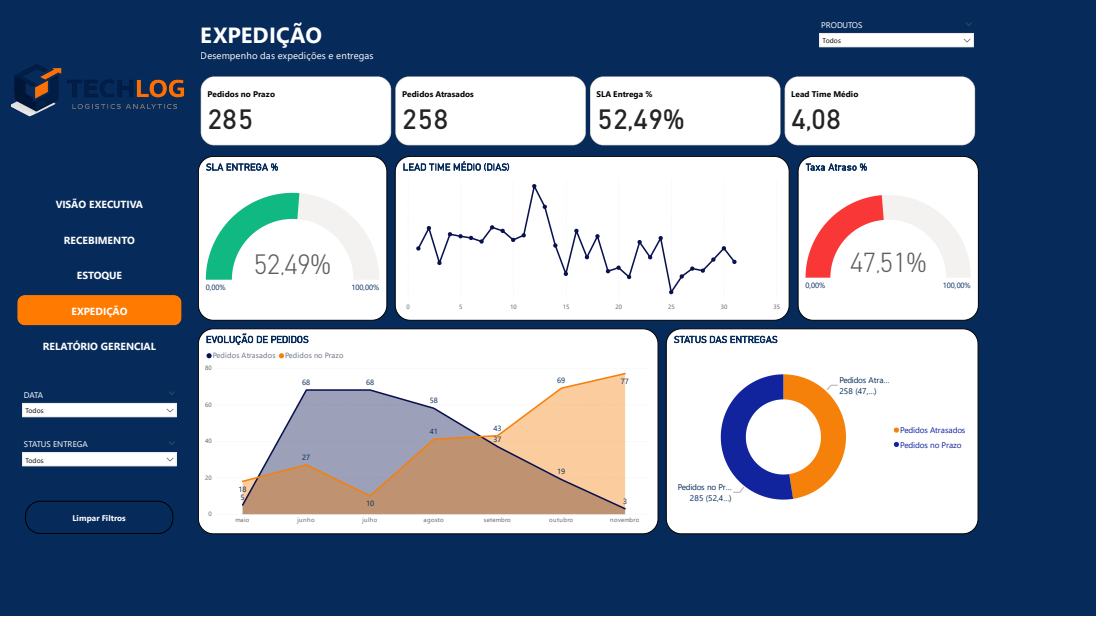

The page's visual inventory and layout, read from the dashboard file:
{"tool":"powerbi","page":{"name":"EXPEDIÇÃO","canvas":[1920,1080],"ordinal":3},"visuals":[{"type":"textbox","box":[384,32,720,96],"z":0},{"type":"cardVisual","fields":{"Data":["Medidas.Pedidos no Prazo","Medidas.Pedidos Atrasados","Medidas.SLA Entrega %","Medidas.Lead Time Médio"]},"box":[384,144,1520,144],"z":1000},{"type":"gauge","title":"SLA ENTREGA %","fields":{"Y":["Medidas.SLA Entrega %"]},"box":[384,304,368,320],"z":2000},{"type":"areaChart","title":"EVOLUÇÃO DE PEDIDOS","fields":{"Y":["Medidas.Pedidos Atrasados","Medidas.Pedidos no Prazo"],"Category":["expedicoes_tratado.data_saida.Variation.Hierarquia de datas.Ano","expedicoes_tratado.data_saida.Variation.Hierarquia de datas.Mês"]},"box":[384,640,896,400],"z":3000},{"type":"pageNavigator","box":[32,368,320,336],"z":4000},{"type":"image","box":[16,16,352,352],"z":5000},{"type":"slicer","fields":{"Values":["produtos_expedidos.nome_produto"]},"box":[1584,32,320,96],"z":6000},{"type":"donutChart","title":"STATUS DAS ENTREGAS","fields":{"Y":["Medidas.Pedidos Atrasados","Medidas.Pedidos no Prazo"]},"box":[1296,640,608,400],"z":7000},{"type":"lineChart","title":"LEAD TIME MÉDIO (DIAS)","fields":{"Y":["expedicoes_tratado.Lead Time Médio"],"Category":["expedicoes_tratado.data_saida.Variation.Hierarquia de datas.Dia"]},"box":[768,304,768,320],"z":8000},{"type":"gauge","fields":{"Y":["Medidas.Taxa Atraso %"]},"box":[1552,304,352,320],"z":9000},{"type":"actionButton","box":[48,976,288,64],"z":10000},{"type":"slicer","fields":{"Values":["expedicoes_tratado.data_entrega"]},"box":[32,752,320,96],"z":11000},{"type":"slicer","fields":{"Values":["expedicoes_tratado.status_entrega"]},"box":[32,848,320,96],"z":12000}]}

Visuals, with their boxes in screenshot pixels (x1, y1, x2, y2), scaled from the page's 1920x1080 canvas onto the 1098x619 screenshot:
textbox: box(220, 18, 631, 73)
cardVisual - Medidas.Pedidos no Prazo x Medidas.Pedidos Atrasados: box(220, 83, 1089, 165)
"SLA ENTREGA %" gauge: box(220, 174, 430, 358)
"EVOLUÇÃO DE PEDIDOS" areaChart: box(220, 367, 732, 596)
pageNavigator: box(18, 211, 201, 403)
image: box(9, 9, 210, 211)
slicer - produtos_expedidos.nome_produto: box(906, 18, 1089, 73)
"STATUS DAS ENTREGAS" donutChart: box(741, 367, 1089, 596)
"LEAD TIME MÉDIO (DIAS)" lineChart: box(439, 174, 878, 358)
gauge - Medidas.Taxa Atraso %: box(888, 174, 1089, 358)
actionButton: box(27, 559, 192, 596)
slicer - expedicoes_tratado.data_entrega: box(18, 431, 201, 486)
slicer - expedicoes_tratado.status_entrega: box(18, 486, 201, 541)
